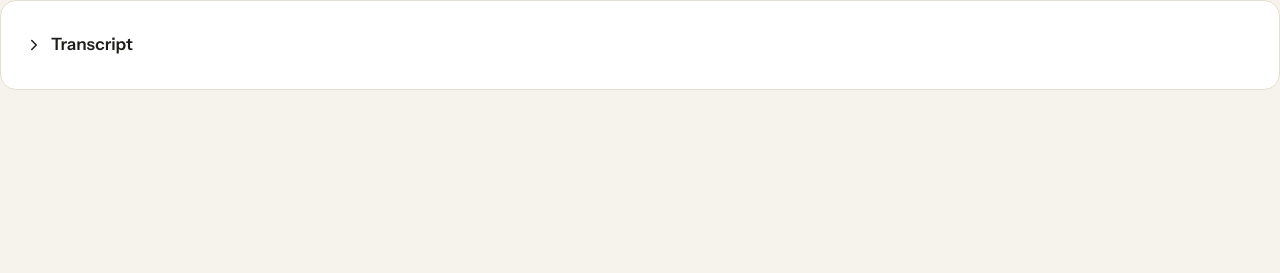
Scenario: TranscriptPanel › still works when storage is blocked
Click the button "Transcript".
click(79, 45)  # box [17,23,141,67]
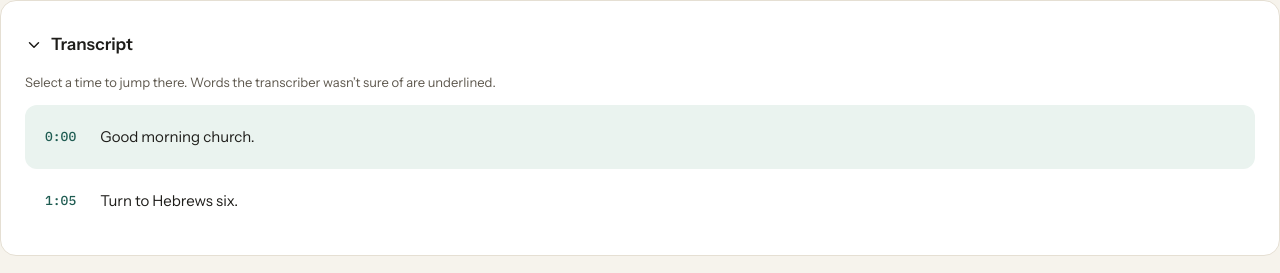
expect the button "Transcript" is expanded: met, box [17,23,141,67]
